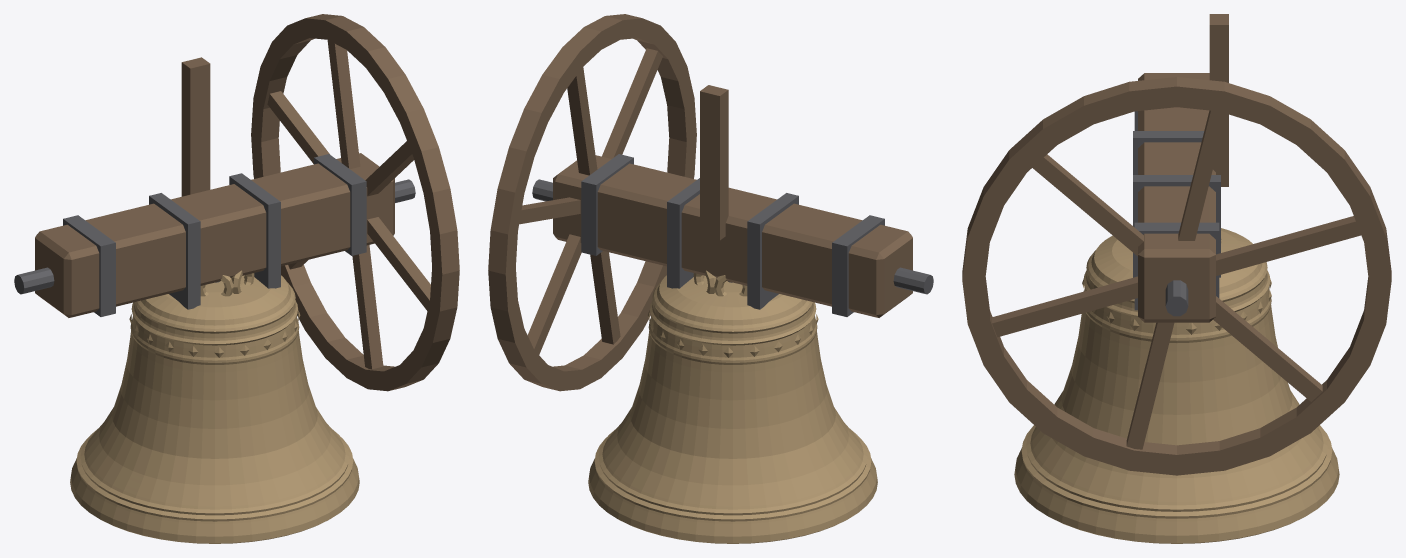
File: bell.glb
3 views of the same model, side by side, from view 1: azimuth 30°, elevation 25°; view 2: azimuth 150°, elevation 25°; view 3: azimuth 270°, elevation 25° (orthographic). The views are drawn at different scales.
Visible parts, largest first — view 1: stock_oak_x, bell_x, stock_iron_x; view 2: stock_oak_x, bell_x, stock_iron_x; view 3: stock_oak_x, bell_x, stock_iron_x.
Boxes of the visible parts, bbox=[...] form: stock_oak_x: bbox=[35, 14, 459, 391]; bell_x: bbox=[70, 270, 359, 543]; stock_iron_x: bbox=[14, 154, 415, 316]; stock_oak_x: bbox=[488, 14, 912, 391]; bell_x: bbox=[588, 270, 877, 543]; stock_iron_x: bbox=[532, 154, 933, 316]; stock_oak_x: bbox=[962, 14, 1391, 475]; bell_x: bbox=[1014, 228, 1339, 543]; stock_iron_x: bbox=[1133, 111, 1220, 316].
Bounding box in the file's own units: 1.56 × 1.6 × 1.32.
